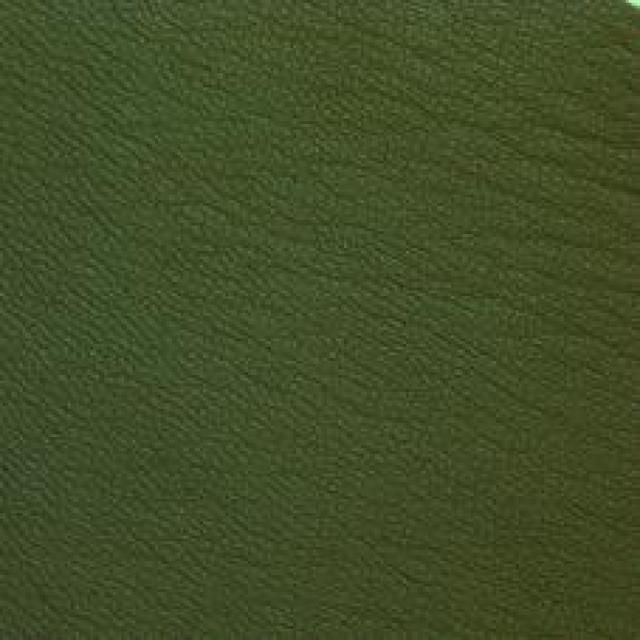Growth Marks: (455, 68, 622, 293)
